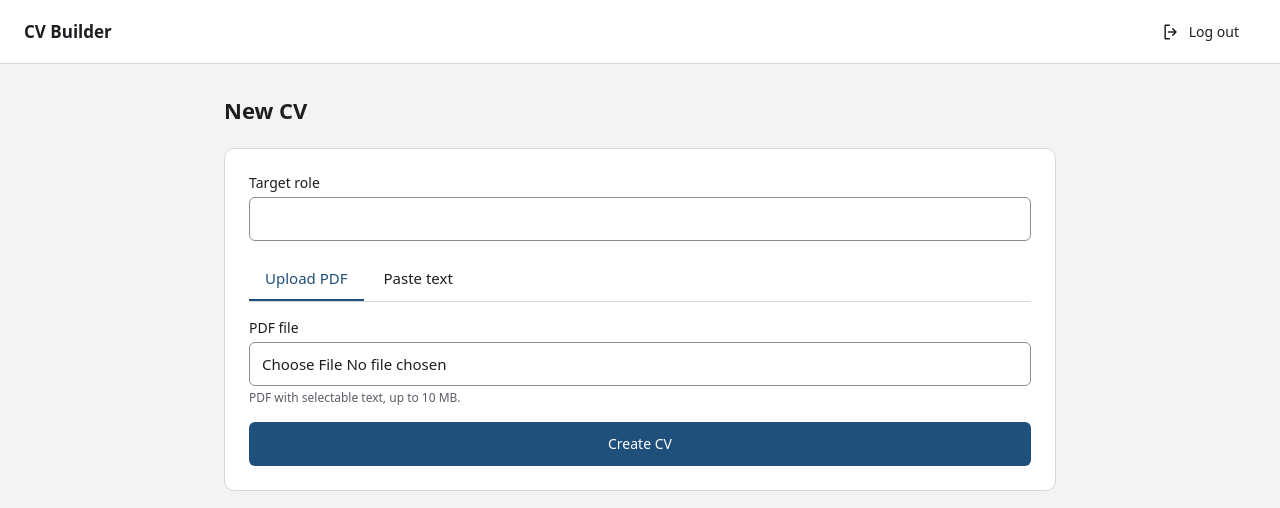
Test: auth screens › logging out ends the session, clears the cache and lands on a clean /login
Expected: the heading "New CV" is shown, [224,95,307,125]
Click the button "Log out".
click(1200, 32)  # box [1144,10,1256,54]
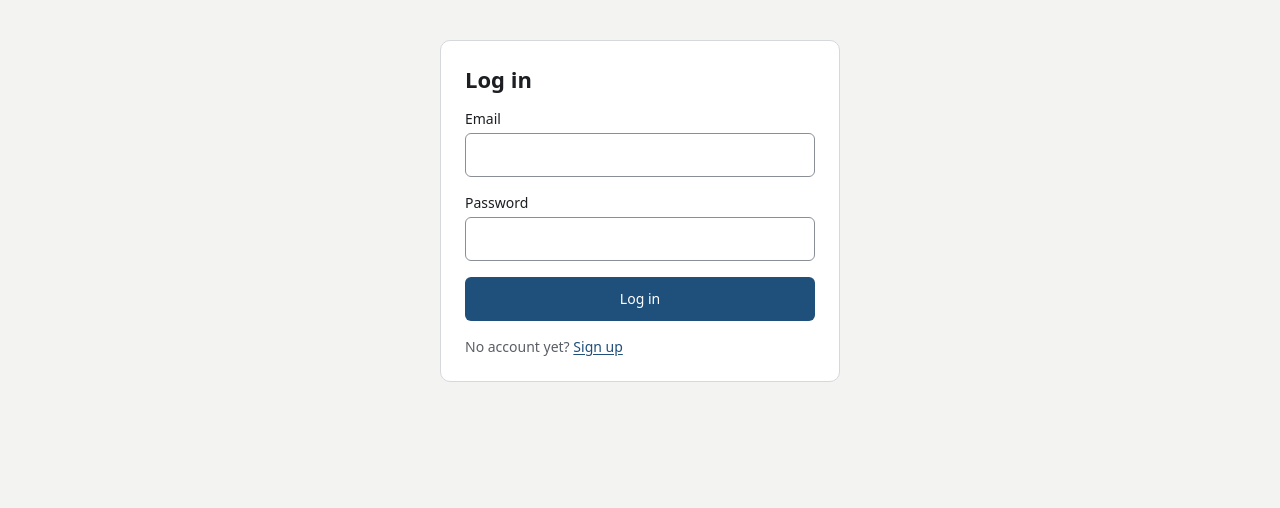
Expected: the heading "Log in" is shown, [465,64,532,94]
Type "iryna@example.com" into the field labelled "Email".
click(640, 155); type("iryna@example.com")  # box [465,133,815,177]
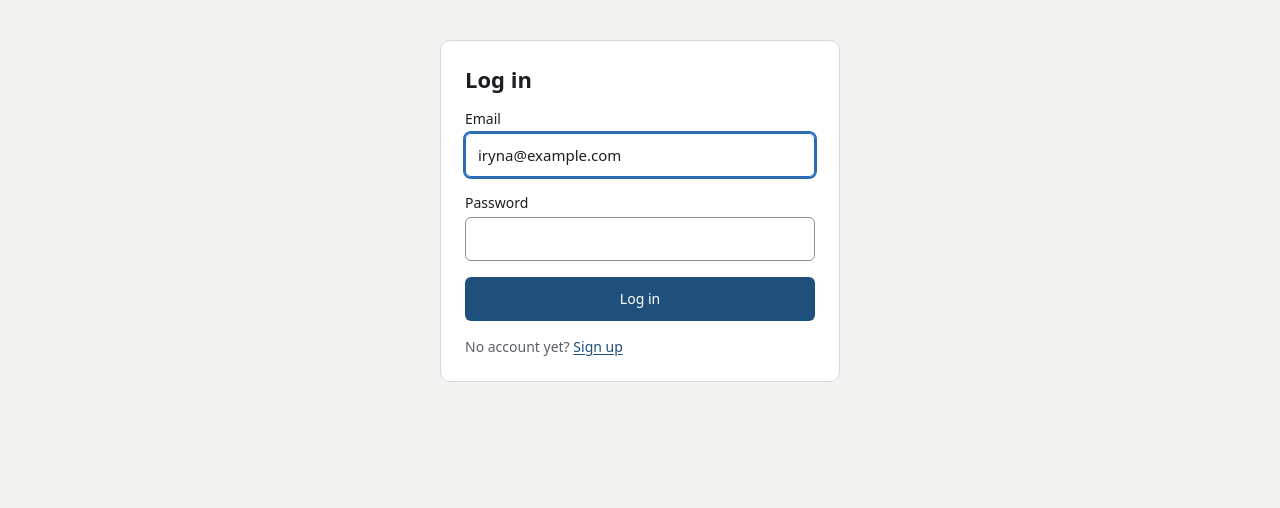
Type "correct horse" into the password field labelled "Password".
click(640, 239); type("correct horse")  # box [465,217,815,261]
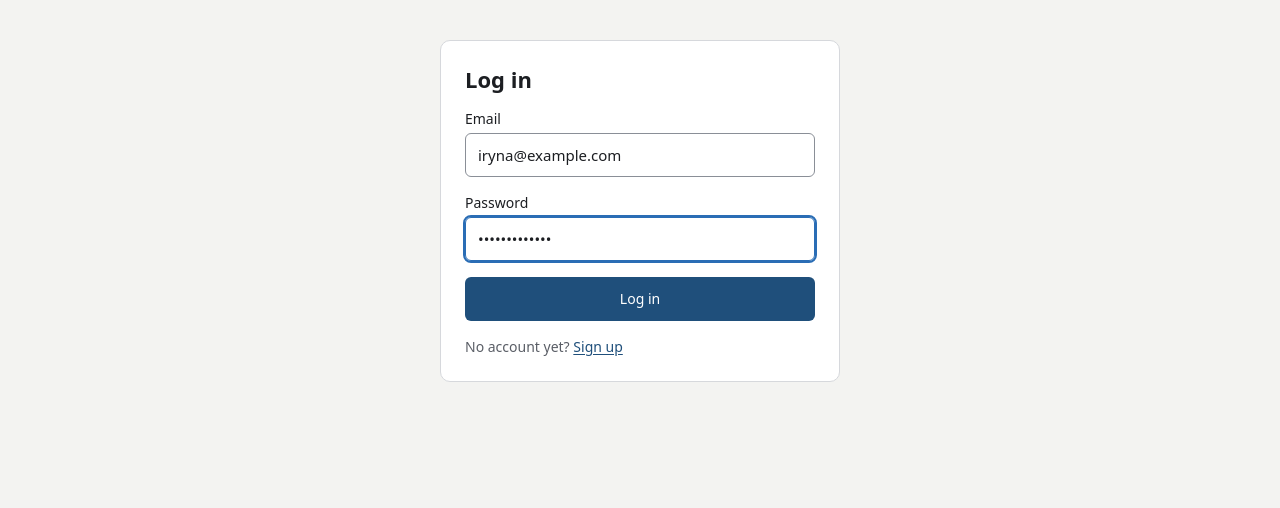
Click the button "Log in".
click(640, 299)  # box [465,277,815,321]
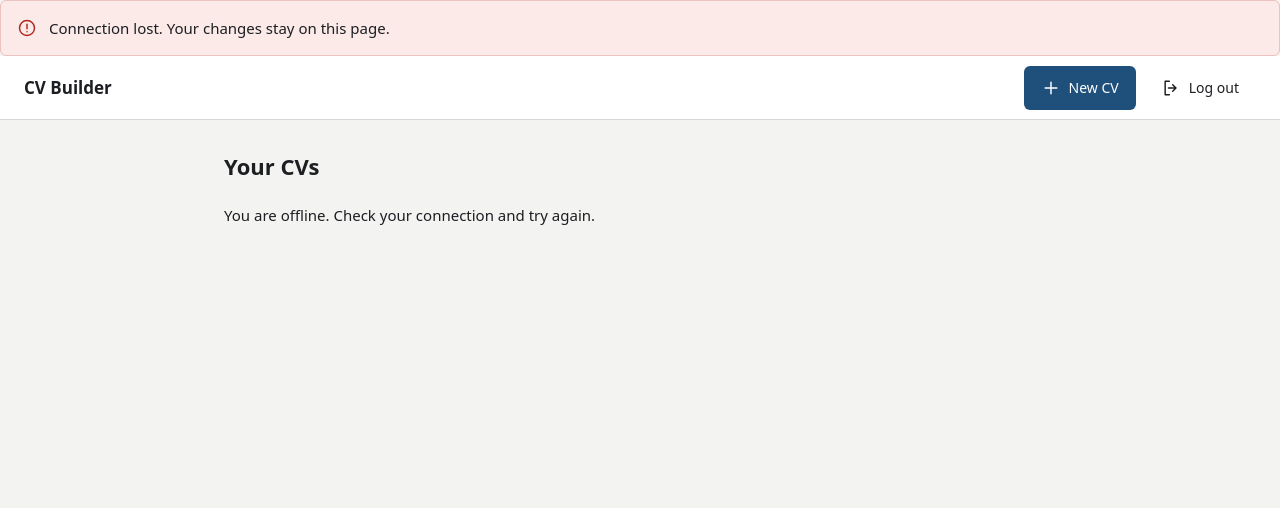
Expected: the heading "Your CVs" is shown, [224,151,319,181]
